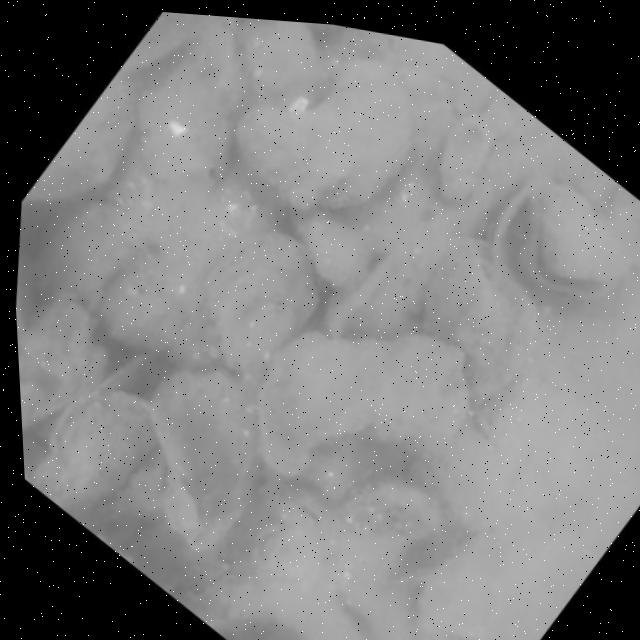Oyster-Closed: (29, 384, 156, 513)
Oyster-Indeterminate: (255, 326, 473, 476), (416, 232, 544, 409), (227, 88, 411, 208), (147, 364, 262, 556), (203, 226, 317, 380), (331, 465, 439, 562)
Oyster-Open: (516, 182, 633, 305), (19, 361, 67, 435)
